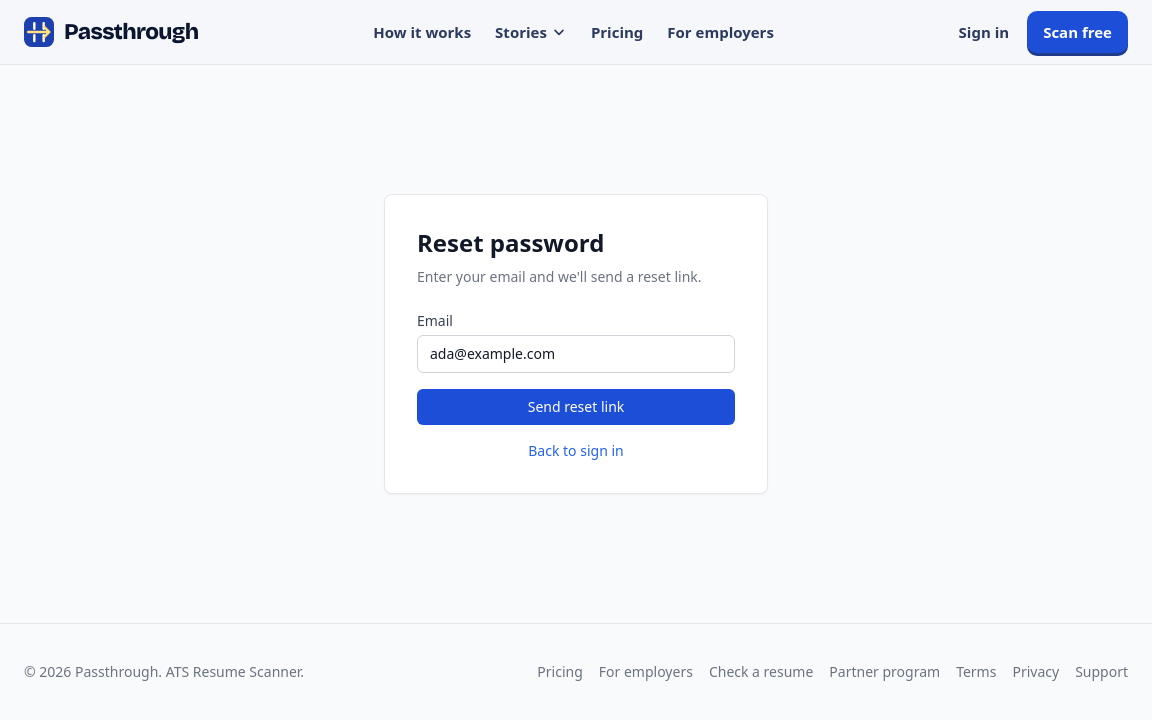
Test: ForgotPassword — prefill, Turnstile, resend timer (G1, G3) › will not send before the challenge is solved
Click the button "Send reset link": (576, 407) [417, 389, 735, 425]
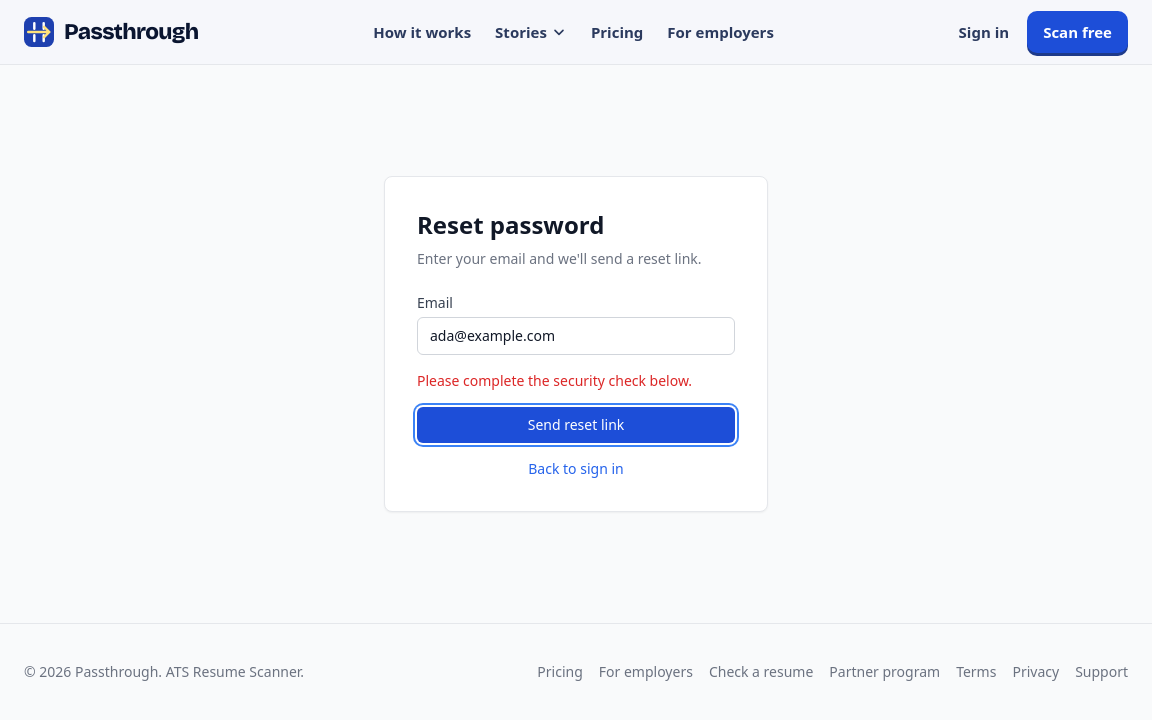
Check: the text "Please complete the security check below." is shown, box [417, 371, 735, 391]
